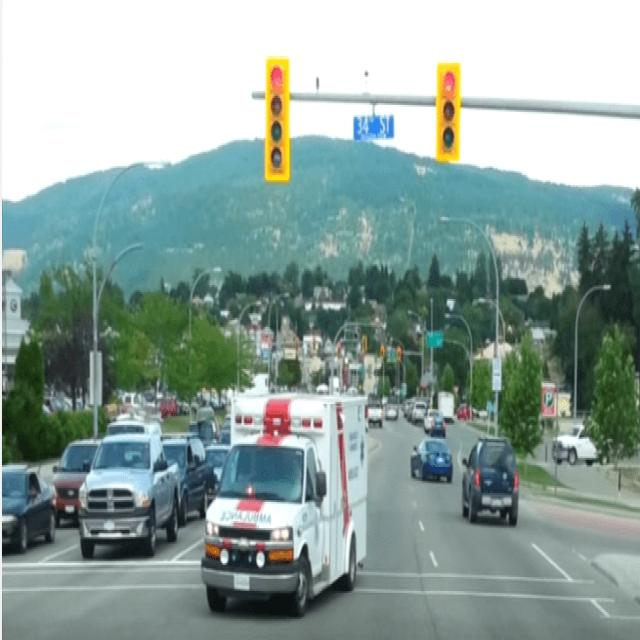car: (80, 434, 180, 558), (462, 436, 519, 523), (2, 465, 55, 549)
emergency: (201, 396, 368, 613)
